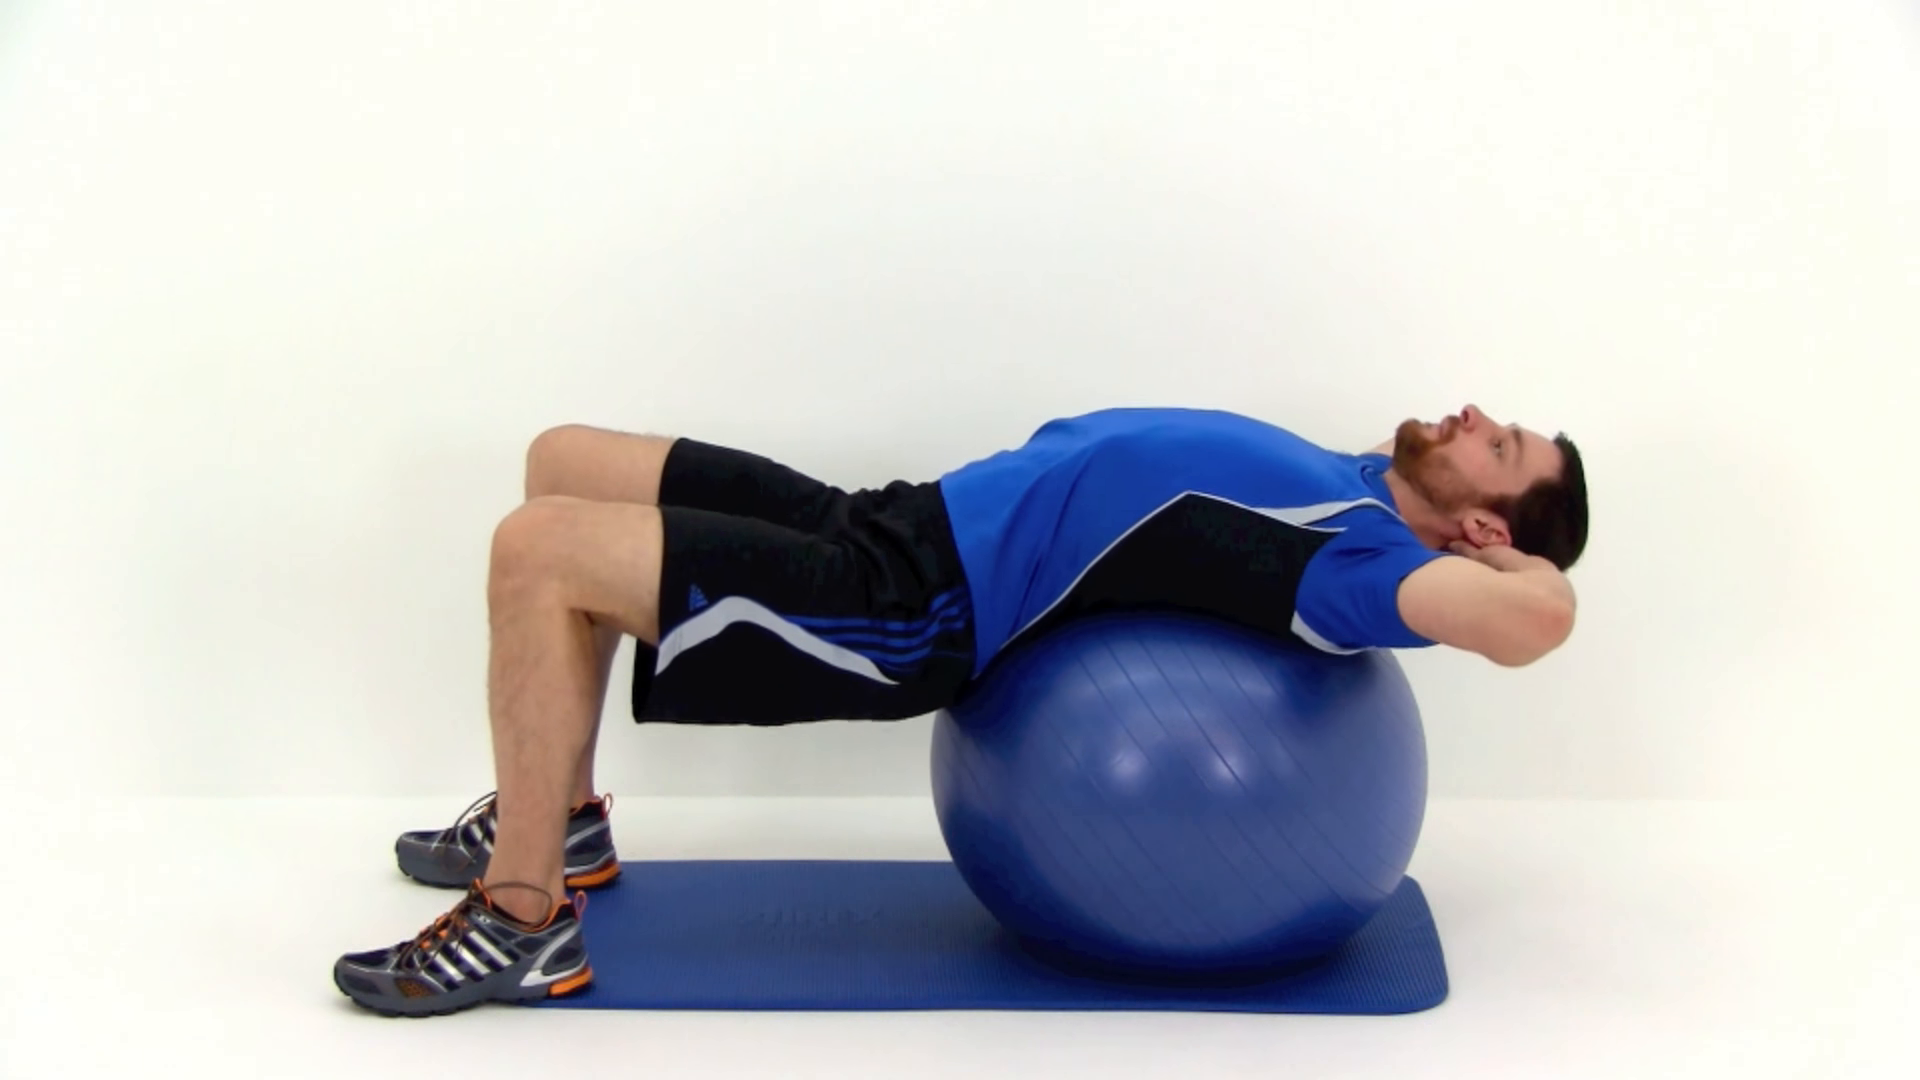yogaball: (919, 578, 1437, 989)
